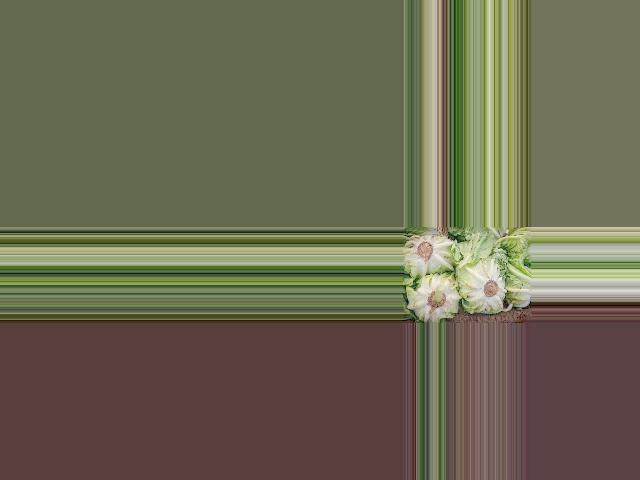lettuce: (403, 233, 453, 276)
